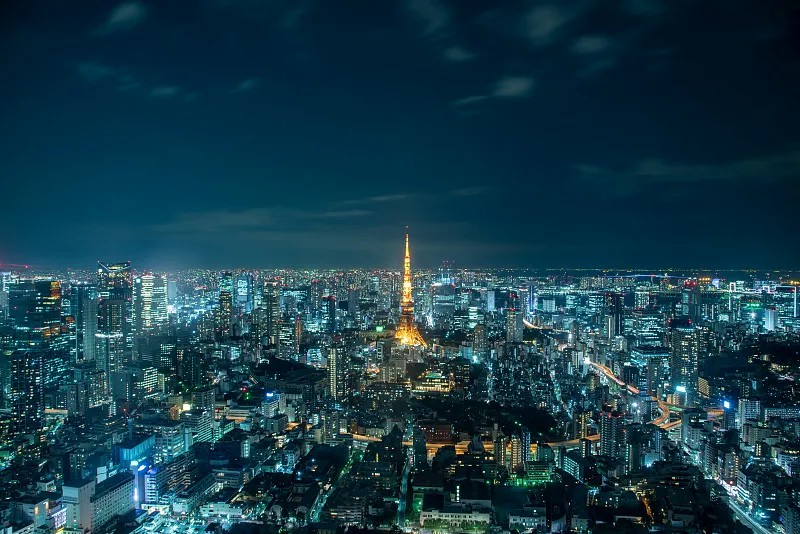Tokyo: (392, 220, 430, 349)
